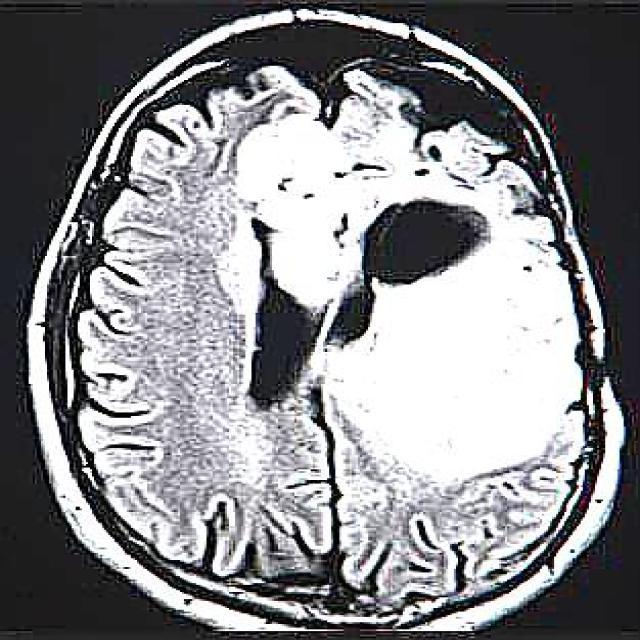brain tumor: (213, 105, 579, 485)
